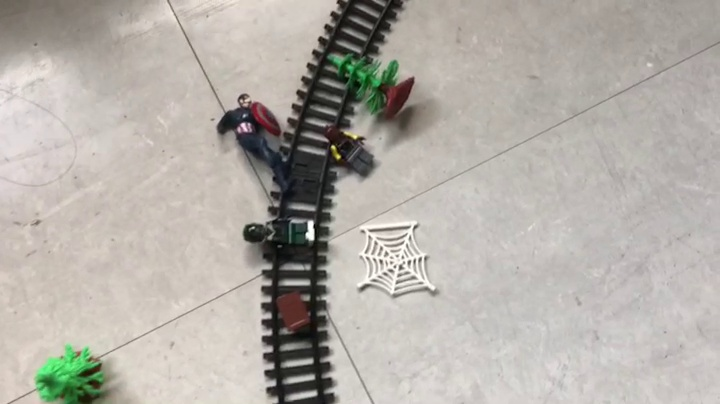box: (274, 289, 312, 335)
people: (216, 93, 298, 195), (241, 215, 316, 260), (323, 124, 376, 178)
tree: (326, 52, 415, 121), (30, 344, 108, 404)
web: (357, 221, 438, 298)
